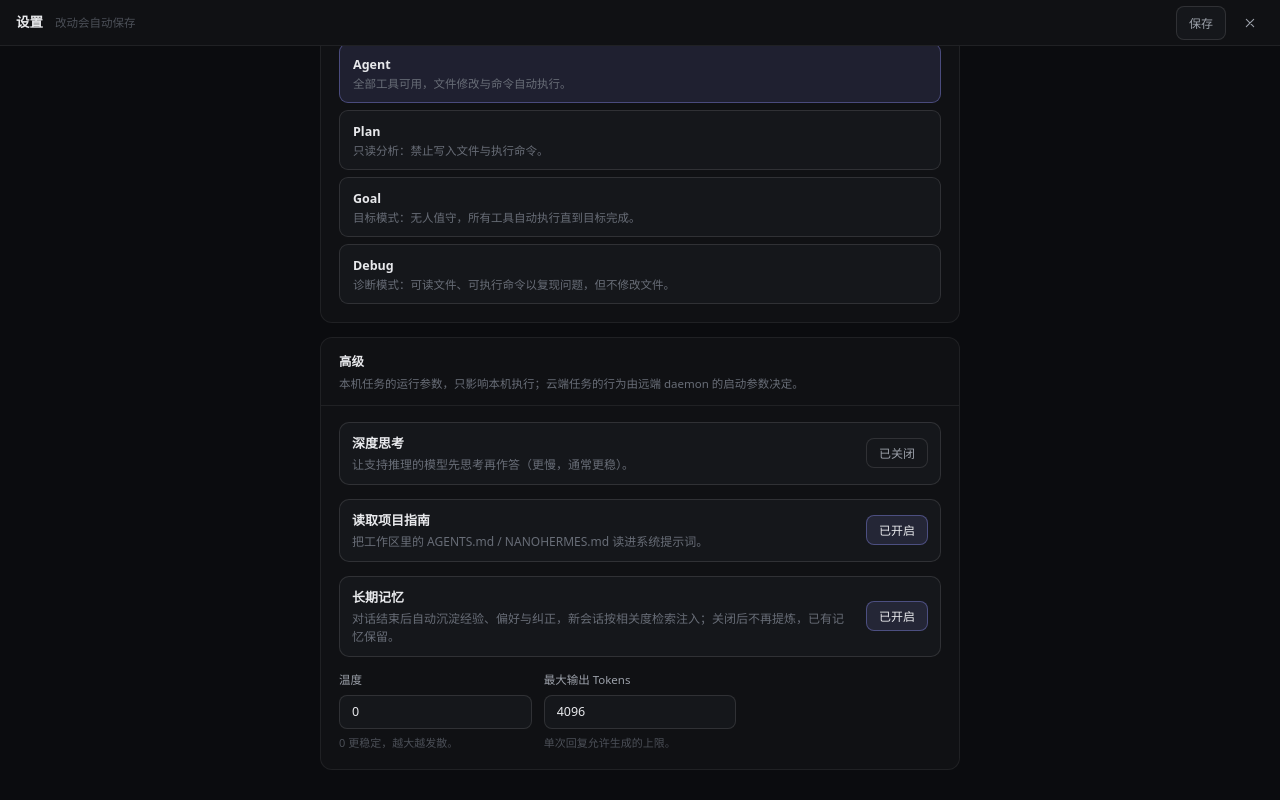
人设、片段与高级参数 › 清空数字输入框不会把最小值写进配置
(page scrolled)
Clear the number field below "最大输出 Tokens" at (640, 712), box [544, 695, 736, 729]
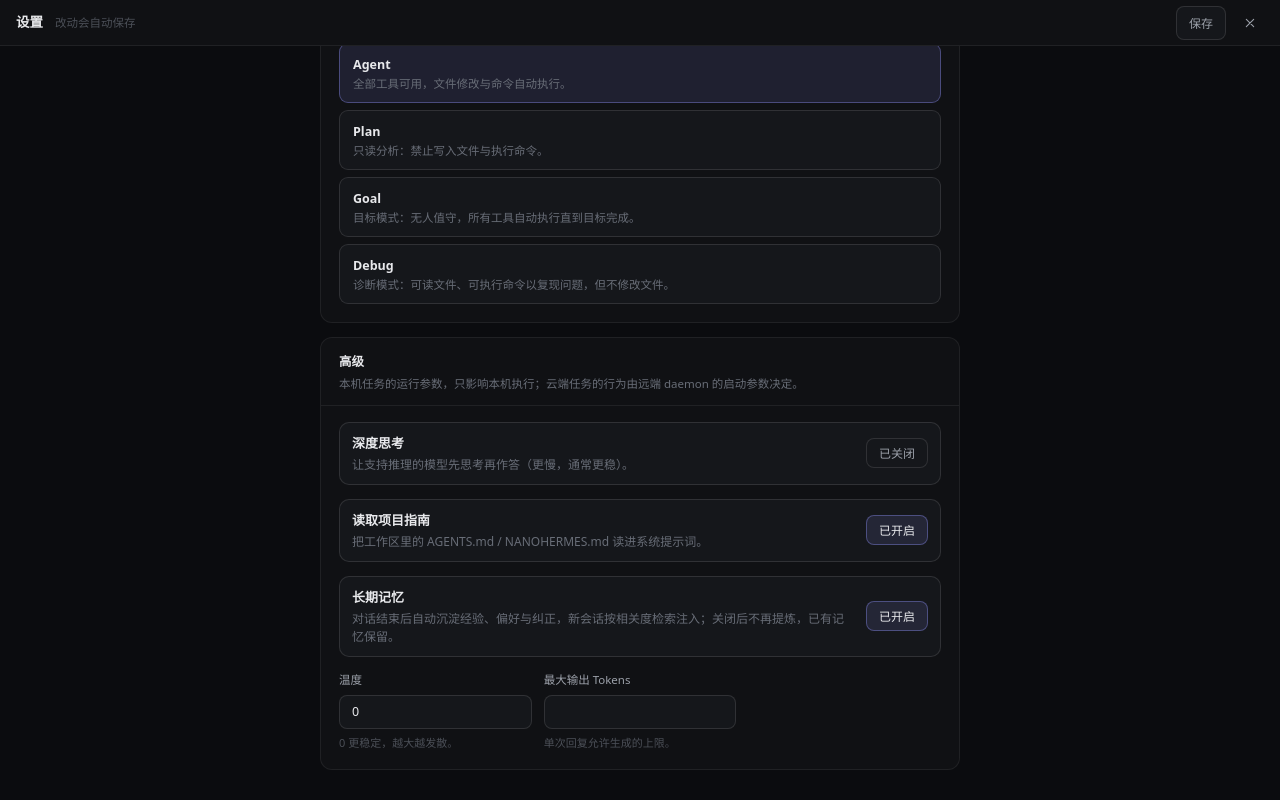
Note: 失焦时还原成上一次生效的值，并兜底落盘。
Leave the number field below "最大输出 Tokens", box [544, 695, 736, 729]
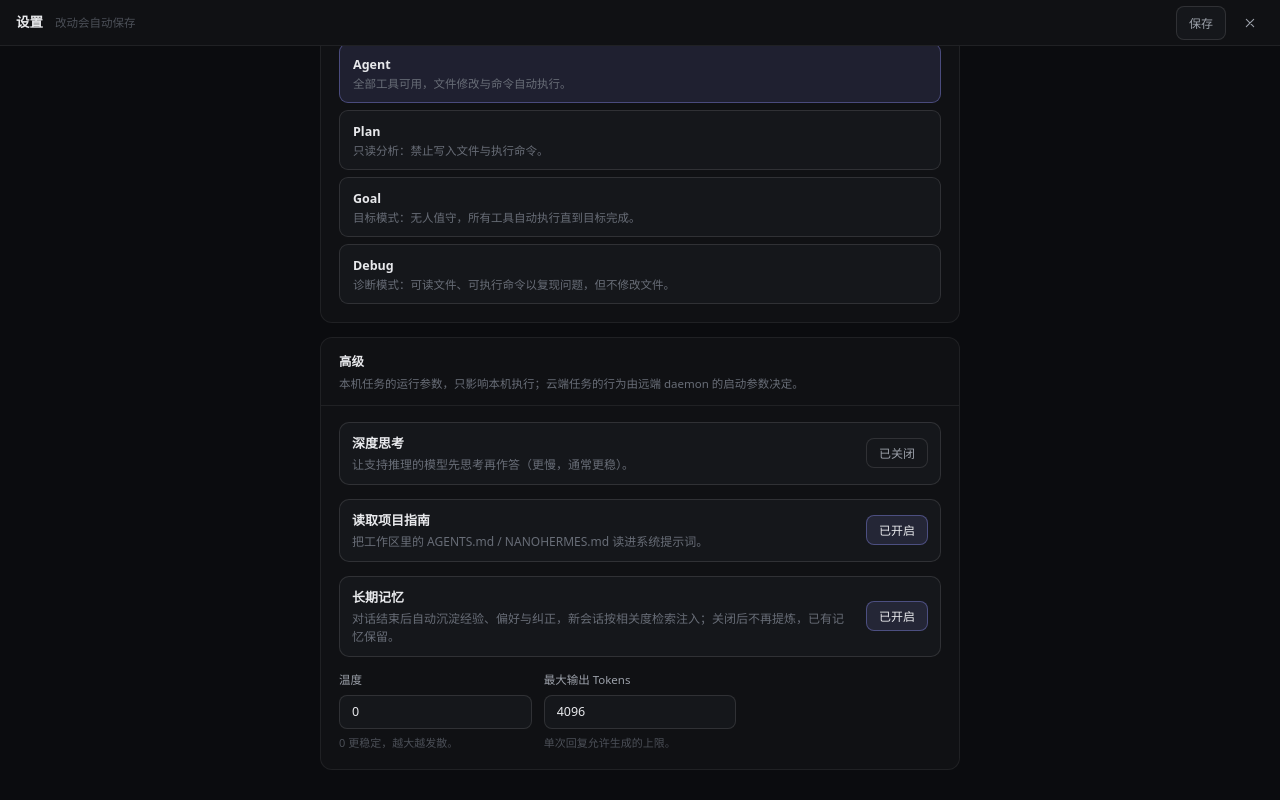
Now the number field below "最大输出 Tokens" holds "4096", box [544, 695, 736, 729]
